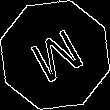M_SE: (23, 22, 87, 88)
